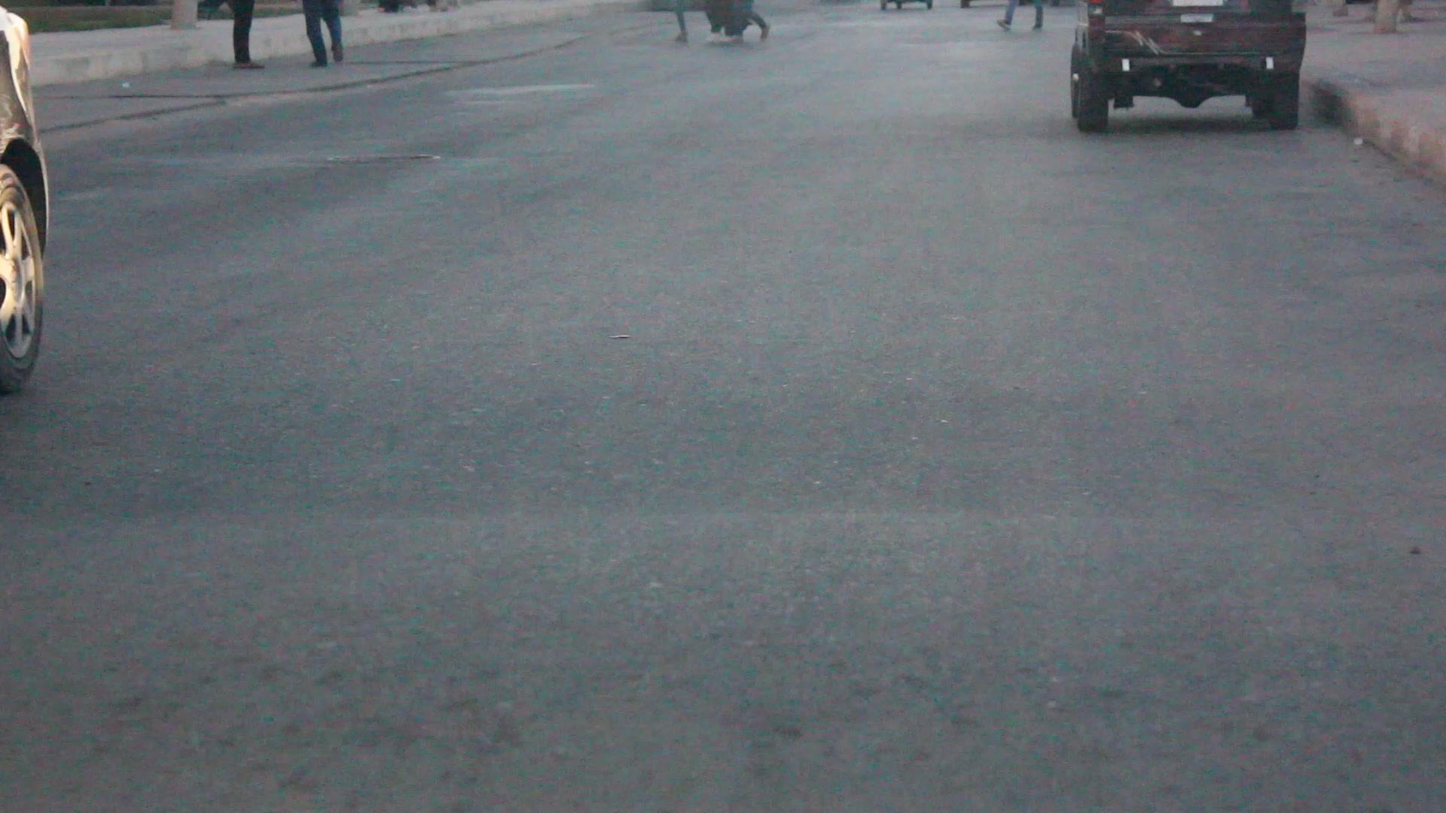Bump: (38, 341, 1446, 514)
